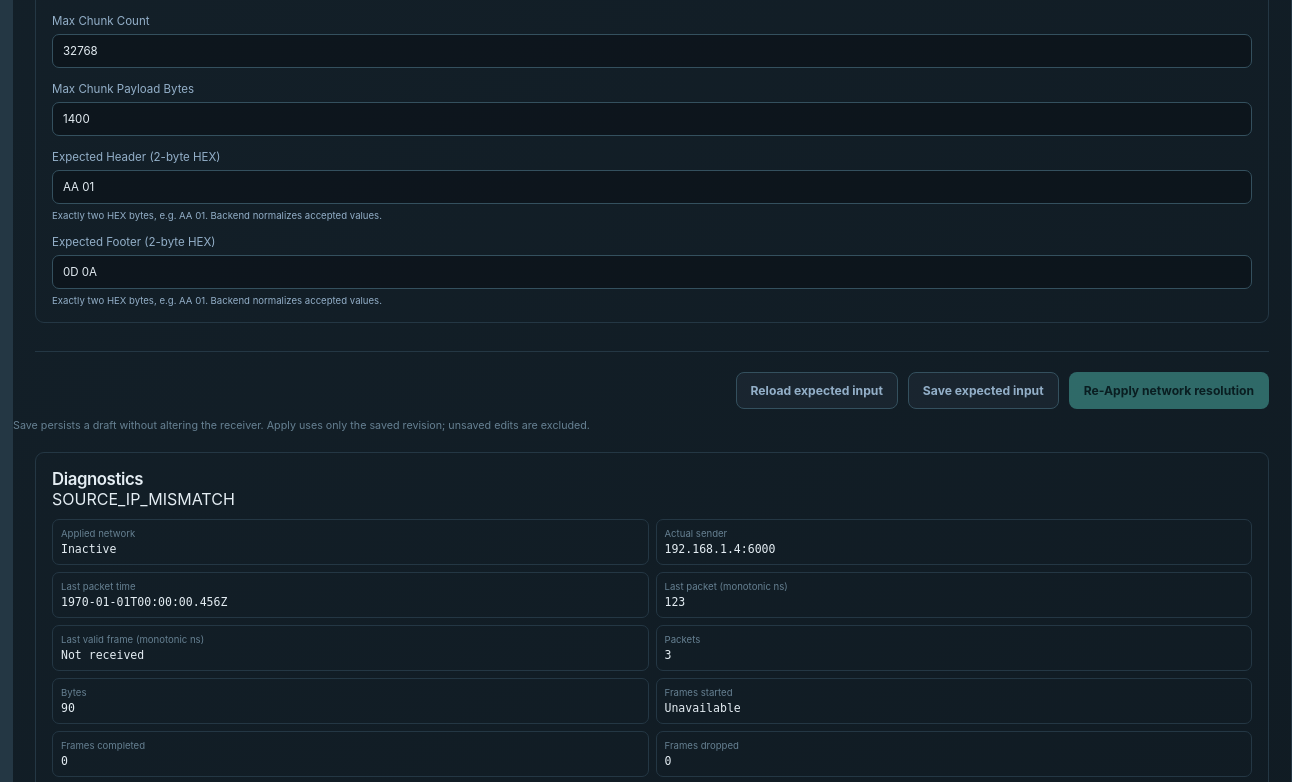
Test case: Raspberry Pi flexible UDP network settings › keeps offline Save available and reports the network failure without applying
(page scrolled)
What coordinates should you click on to do the following:
click the button "Save expected input"
I would click on:
 (983, 391)
Its box is [908, 372, 1059, 409].
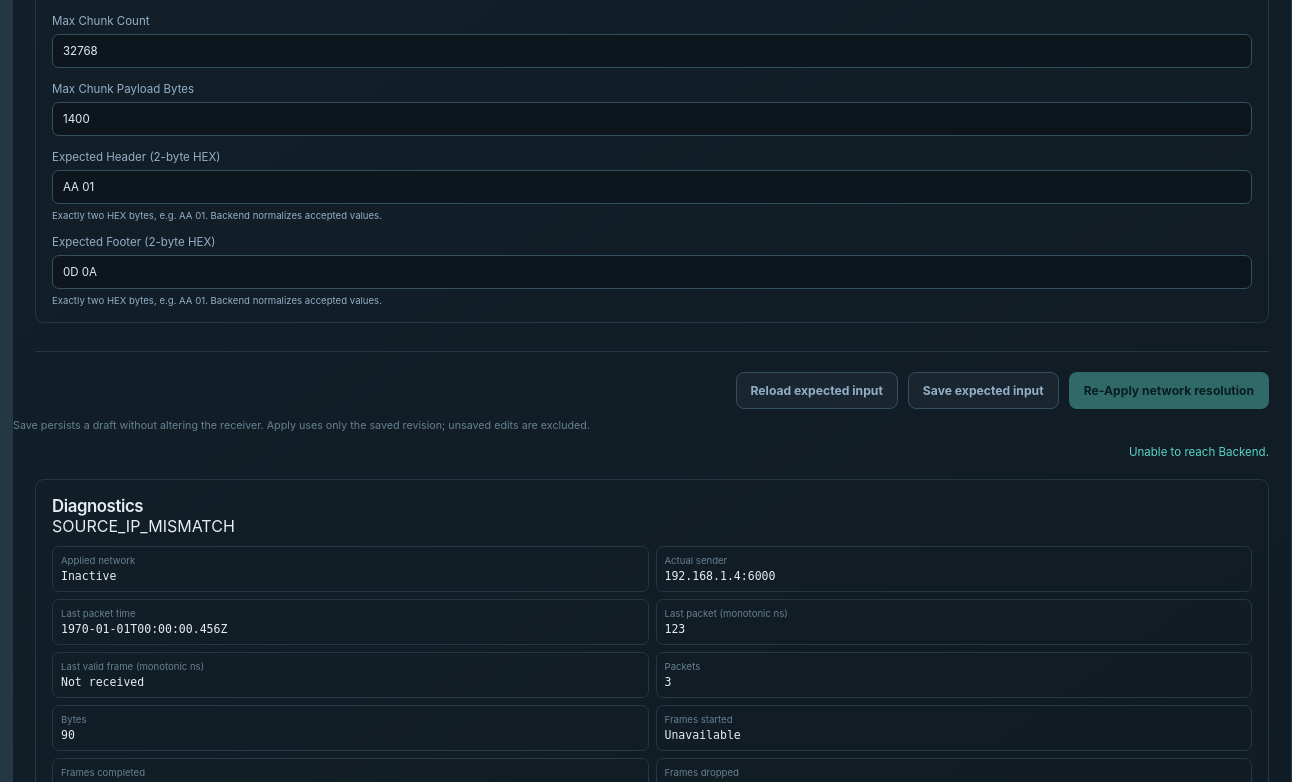
Check: the text "Unable to reach Backend." is shown, box [1129, 445, 1269, 459]
